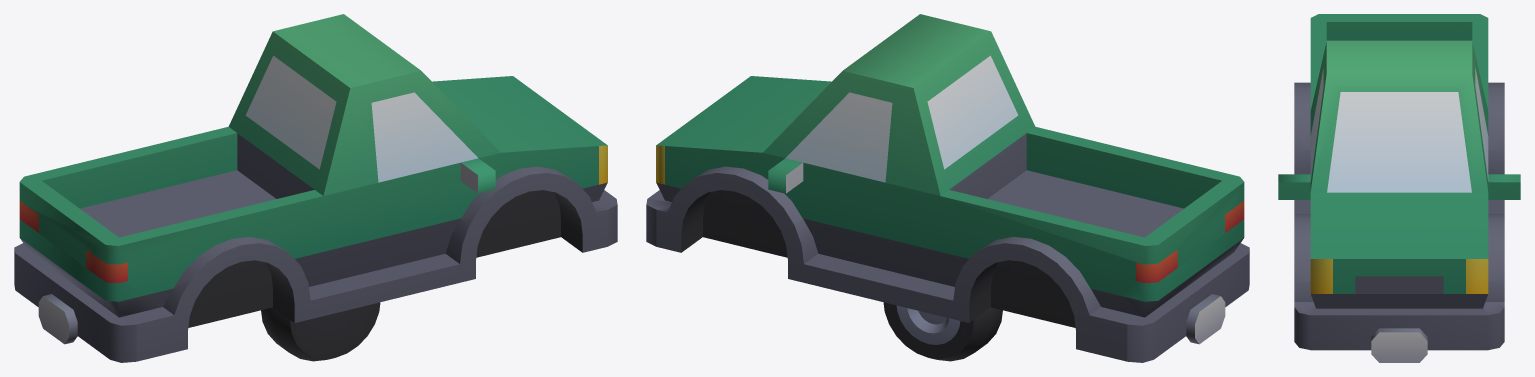
Rendered from truck.glb.
3 renders of one model, left to right at view 1: azimuth 30°, elevation 25°; view 2: azimuth 150°, elevation 25°; view 3: azimuth 270°, elevation 25°, orthographic. The views are drawn at different scales.
Parts seen in each view (by area): view 1: body, wheel; view 2: body, wheel; view 3: body.
Part boxes in pixels (x1=…): body: x1=14, y1=14, x2=617, y2=362; wheel: x1=261, y1=302, x2=380, y2=361; body: x1=646, y1=14, x2=1249, y2=362; wheel: x1=883, y1=302, x2=1002, y2=361; body: x1=1278, y1=14, x2=1520, y2=362.
Size of the model in its own units: 4.3 by 2.33 by 1.84.
